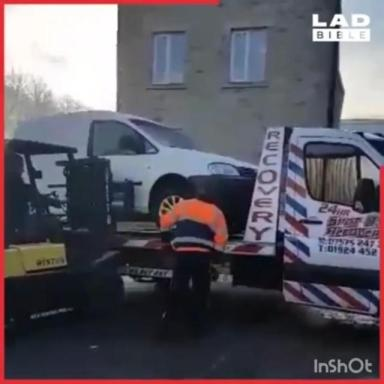forklift: (0, 138, 139, 337)
